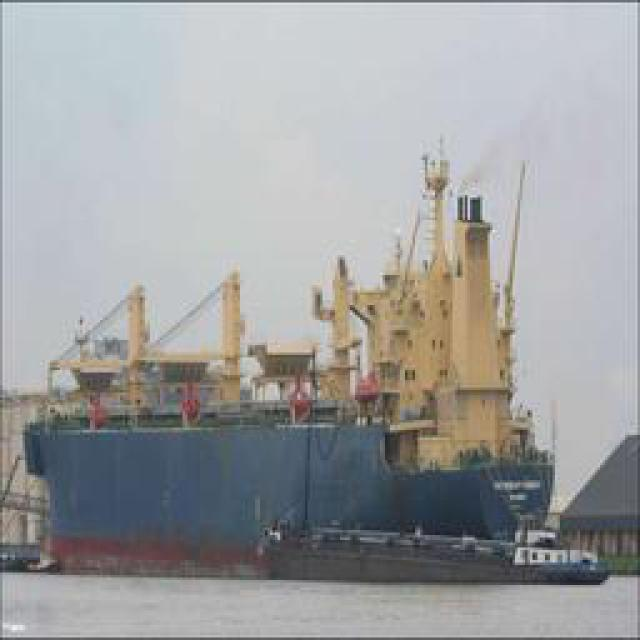Ship: (22, 304, 557, 590), (255, 515, 608, 588)
